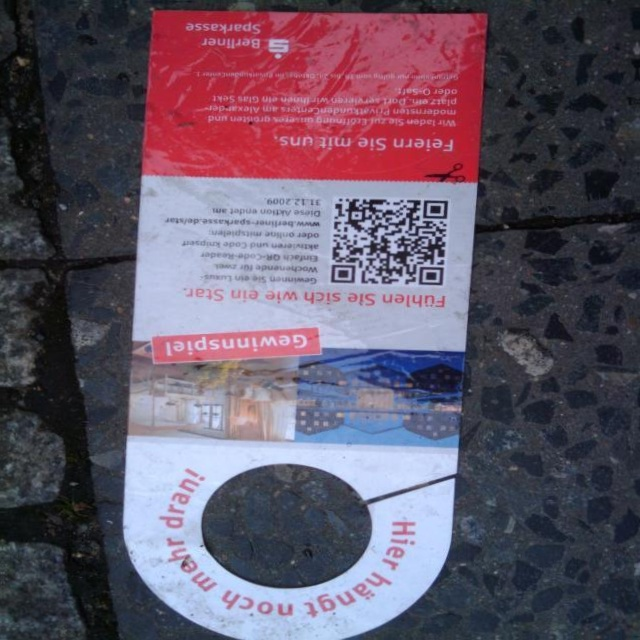qr-code: (331, 198, 449, 286)
